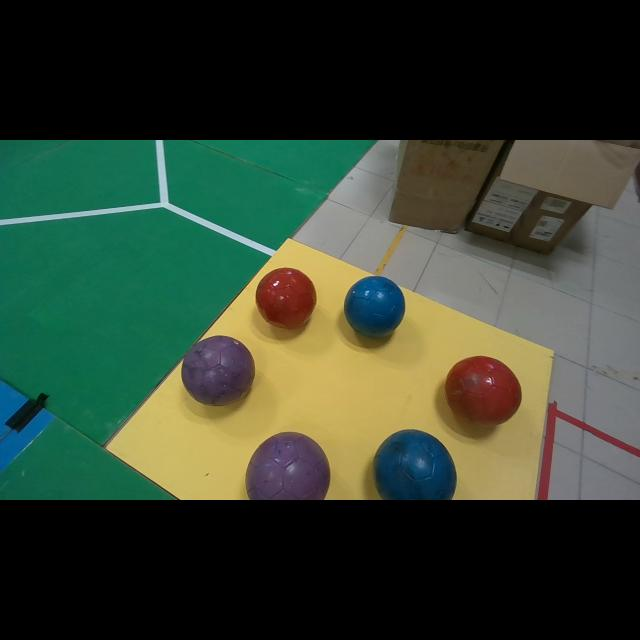B: (372, 430, 456, 499), (344, 276, 405, 337)
P: (245, 432, 330, 500), (181, 335, 255, 405)
R: (445, 356, 521, 426), (255, 268, 316, 329)
